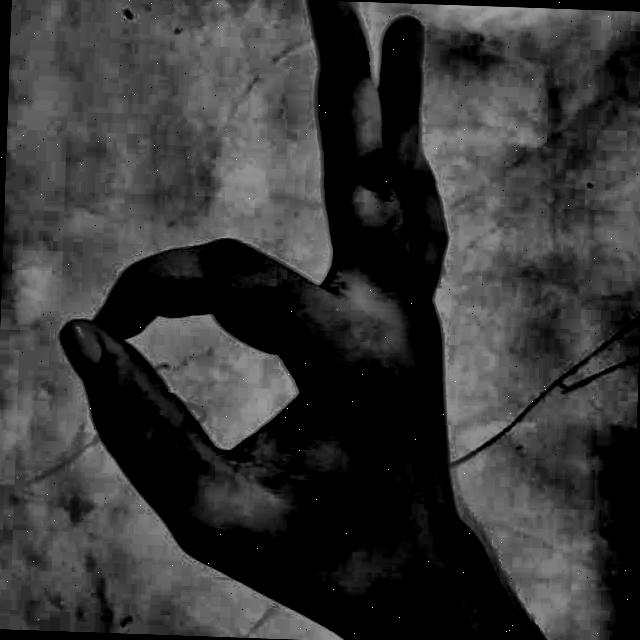Ca: (29, 0, 573, 640)
